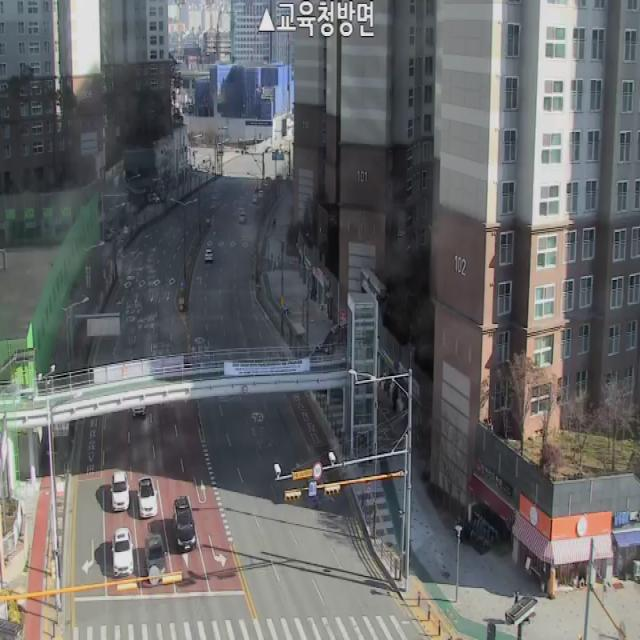Car: (175, 496, 196, 551), (112, 528, 133, 576), (146, 534, 166, 576), (110, 470, 130, 511), (138, 477, 158, 518), (132, 406, 146, 417), (204, 249, 213, 264), (239, 212, 246, 224)
